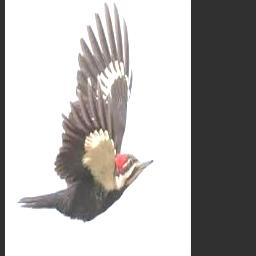Woodpecker: (17, 1, 154, 220)
